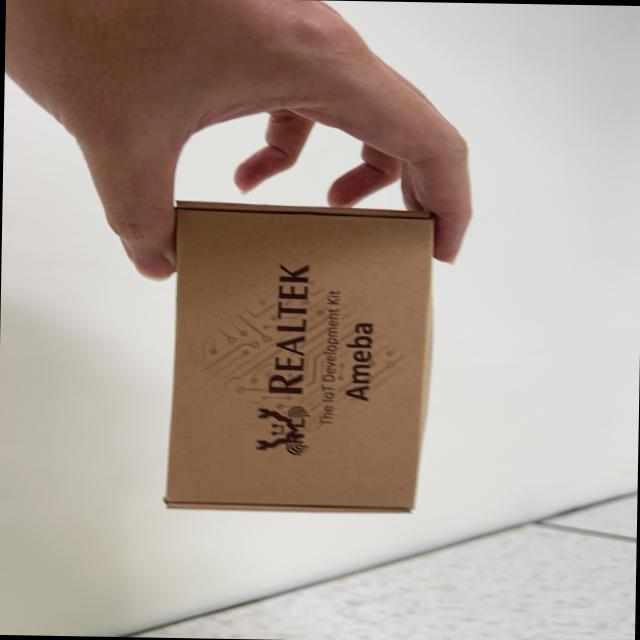box: (150, 180, 448, 530)
